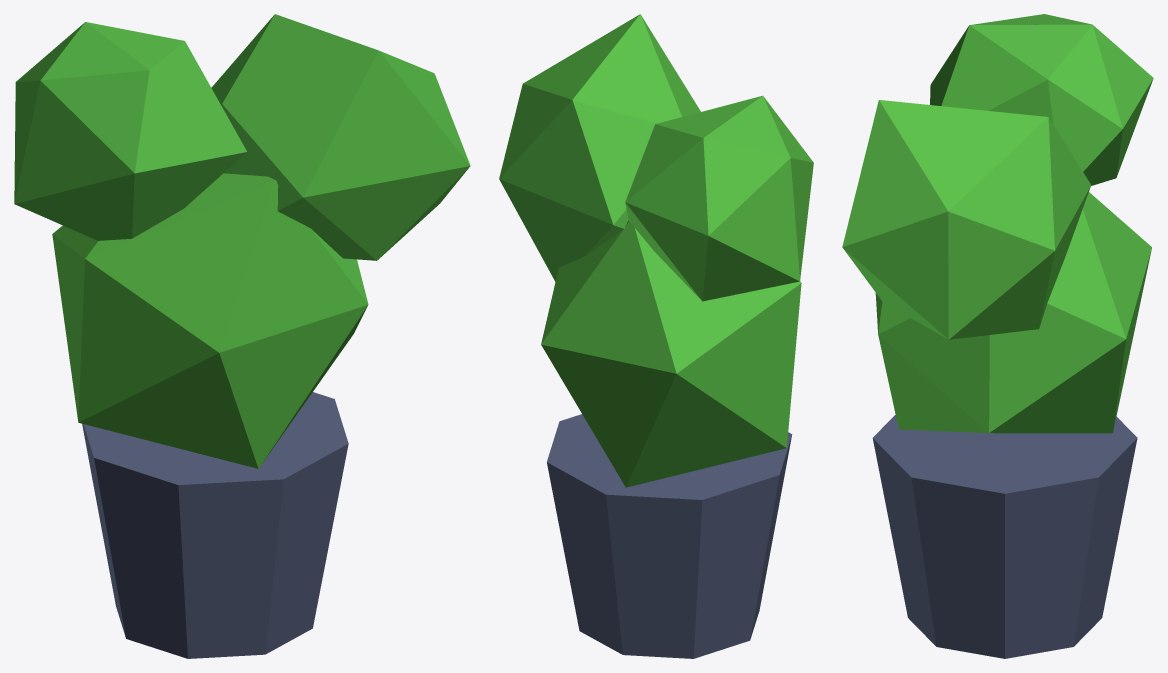
The model's file is plant.glb.
The picture shows the model from 3 angles, left to right: view 1: azimuth 30°, elevation 25°; view 2: azimuth 150°, elevation 25°; view 3: azimuth 270°, elevation 25°; orthographic projection. The views are drawn at different scales.
Visible parts, largest first — view 1: Pot; view 2: Pot; view 3: Pot.
Boxes of the visible parts, bbox=[...] form: Pot: bbox=[14, 14, 470, 658]; Pot: bbox=[499, 14, 813, 658]; Pot: bbox=[842, 14, 1153, 658].
Bounding box in the file's own units: 0.916 × 1.41 × 0.7055.
